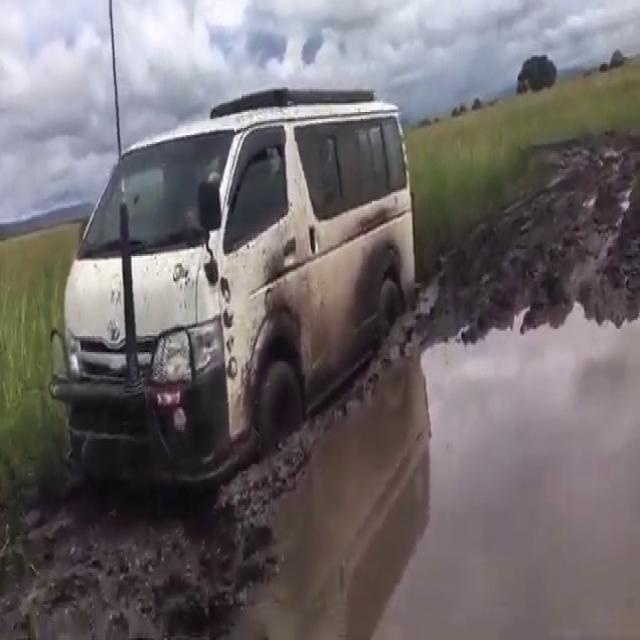Van: (58, 82, 419, 482)
